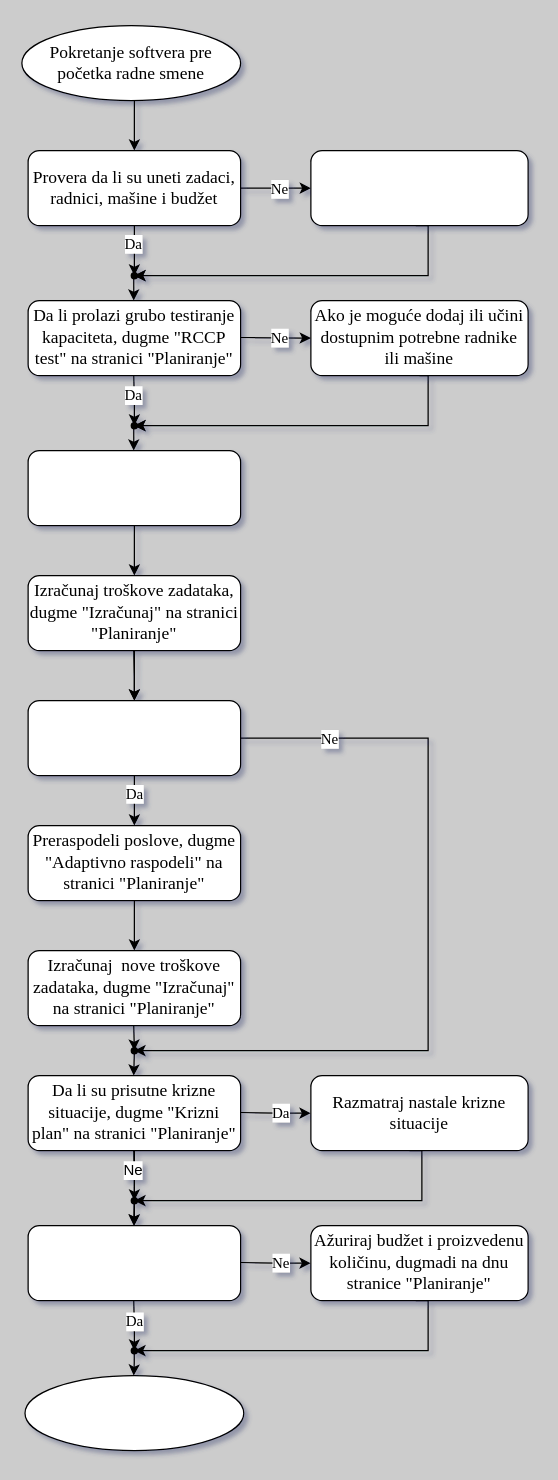
The diagram is 558 pixels wide and 1480 high, and some of its shapes have lost their labels. The centre of each missing label's shape, as x and y in pixels:
Da li je softver bio pokrenut u 17:00 časova: the point at 134,1262
Dodaj sve što postoji u sistemu: the point at 419,187
Kraj radne smene: the point at 134,1412
Proveri da li je prisutno kašnjenje kod zadataka na stranici "Zadaci": the point at 134,737
Raspodeli poslove, dugme "Raspodeli" na stranici "Planiranje": the point at 134,487
